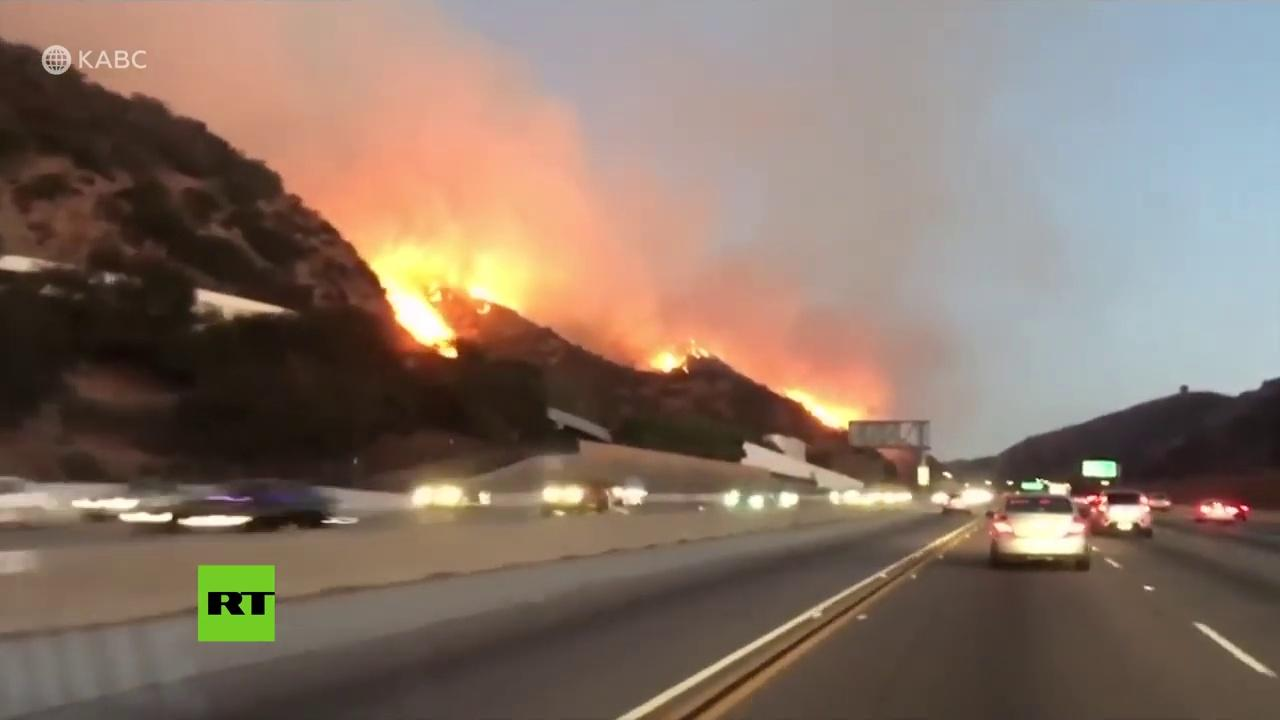Fire: (370, 251, 519, 364), (786, 390, 857, 434), (653, 339, 713, 379)
